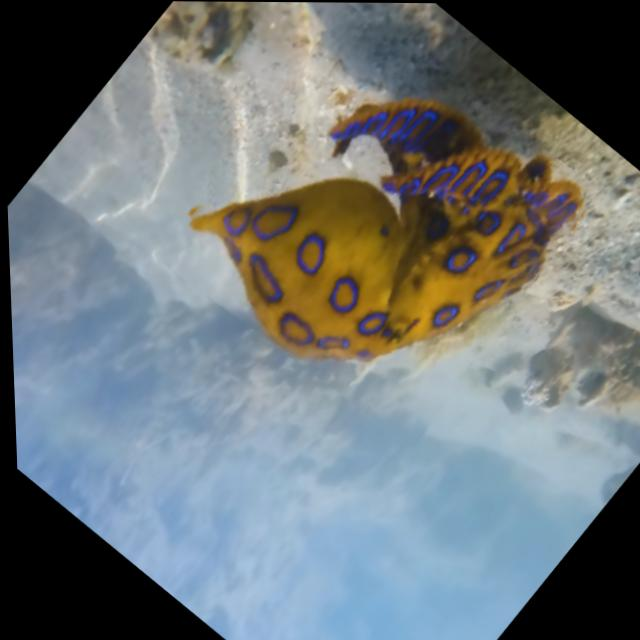blue_ringed_octopus: (141, 1, 612, 453)
